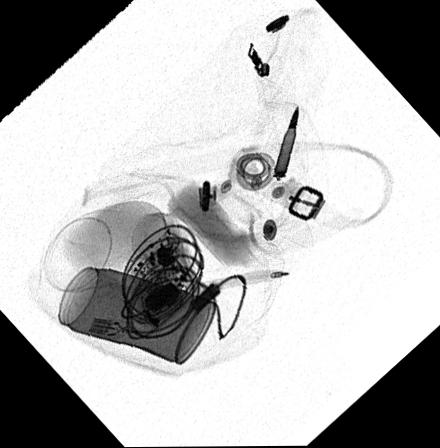Bullet: (272, 106, 300, 178)
